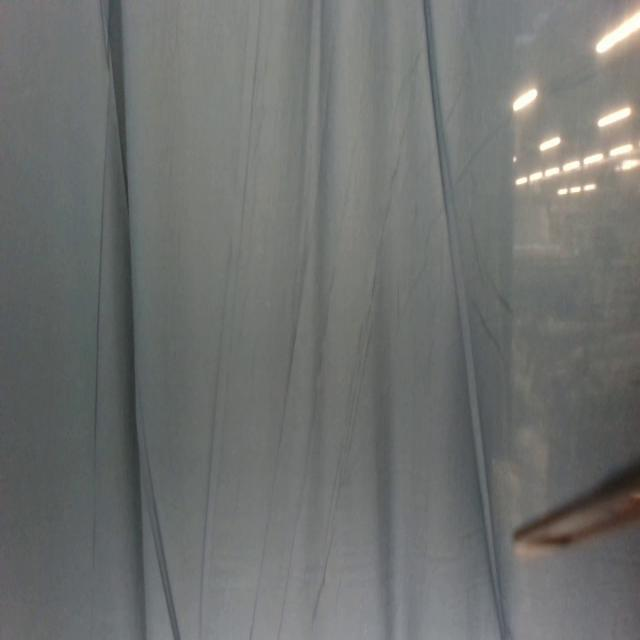crease: (312, 70, 416, 628), (420, 0, 507, 636), (194, 0, 265, 637), (87, 0, 113, 579), (139, 401, 182, 635)
